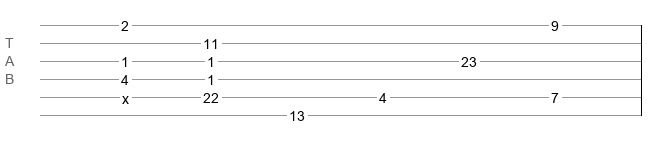1: (121, 54, 129, 64), (207, 54, 215, 64), (207, 72, 215, 82)
11: (203, 36, 219, 46)
13: (289, 108, 305, 118)
2: (121, 18, 129, 28)
22: (203, 90, 219, 100)
23: (461, 54, 477, 64)
4: (121, 72, 129, 82), (379, 90, 387, 100)
7: (551, 90, 559, 100)
9: (551, 18, 559, 28)
x: (122, 91, 129, 99)
